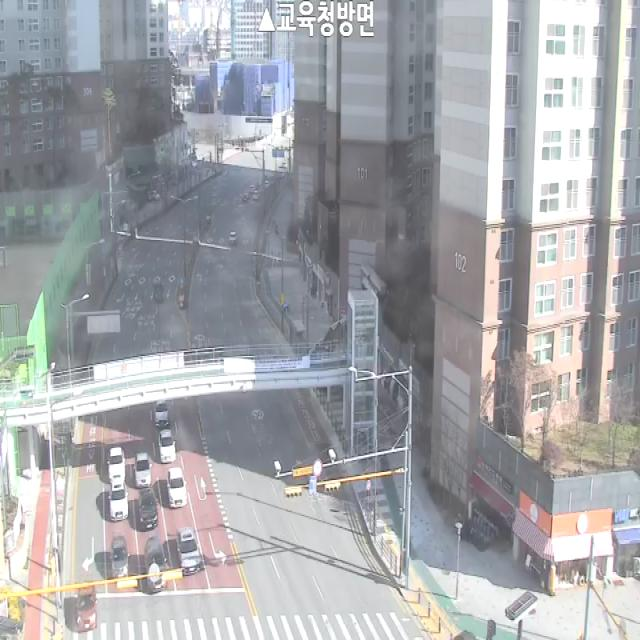Car: (145, 537, 167, 593), (177, 527, 200, 576), (77, 582, 97, 632), (138, 487, 158, 530), (110, 536, 130, 578), (167, 467, 187, 508), (109, 480, 128, 522), (108, 446, 126, 484), (134, 453, 152, 488), (159, 429, 176, 463), (155, 399, 169, 427), (229, 232, 237, 244)
